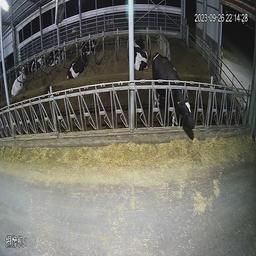cow: (150, 48, 202, 154), (62, 43, 93, 85), (6, 64, 33, 103), (134, 30, 151, 72), (43, 46, 63, 69)
